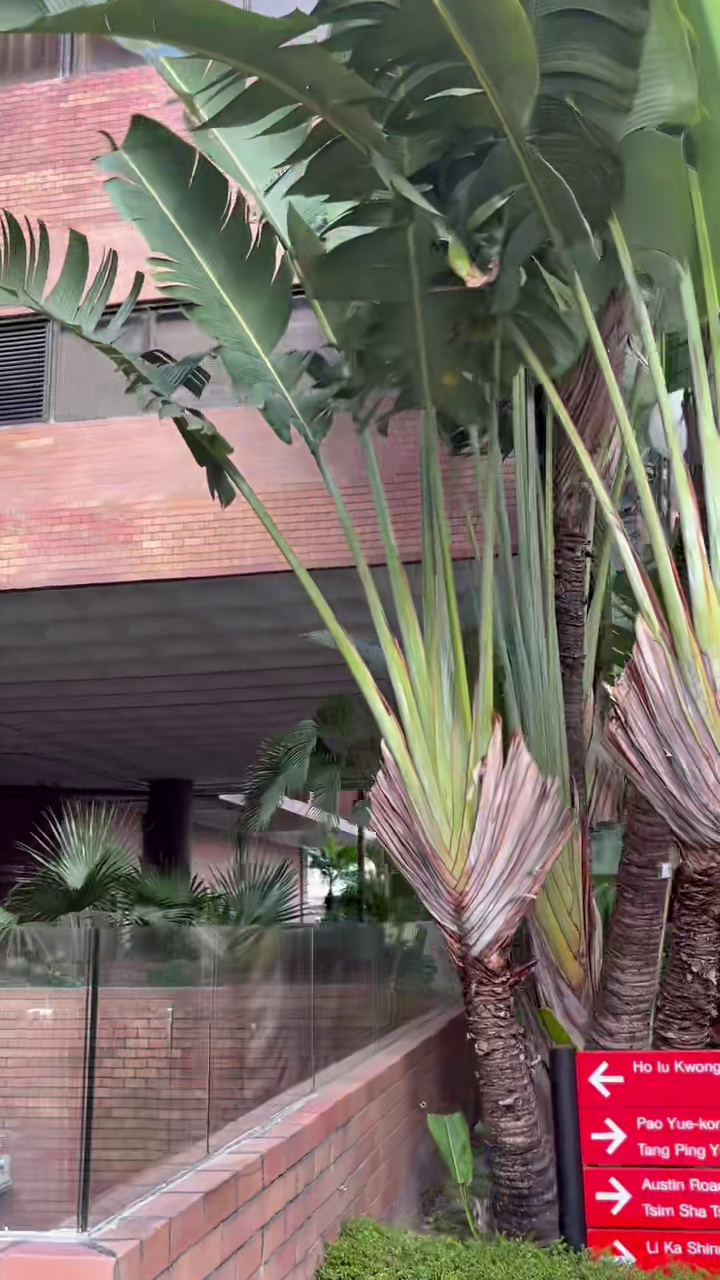Travellers-tree: (0, 0, 573, 1234)
